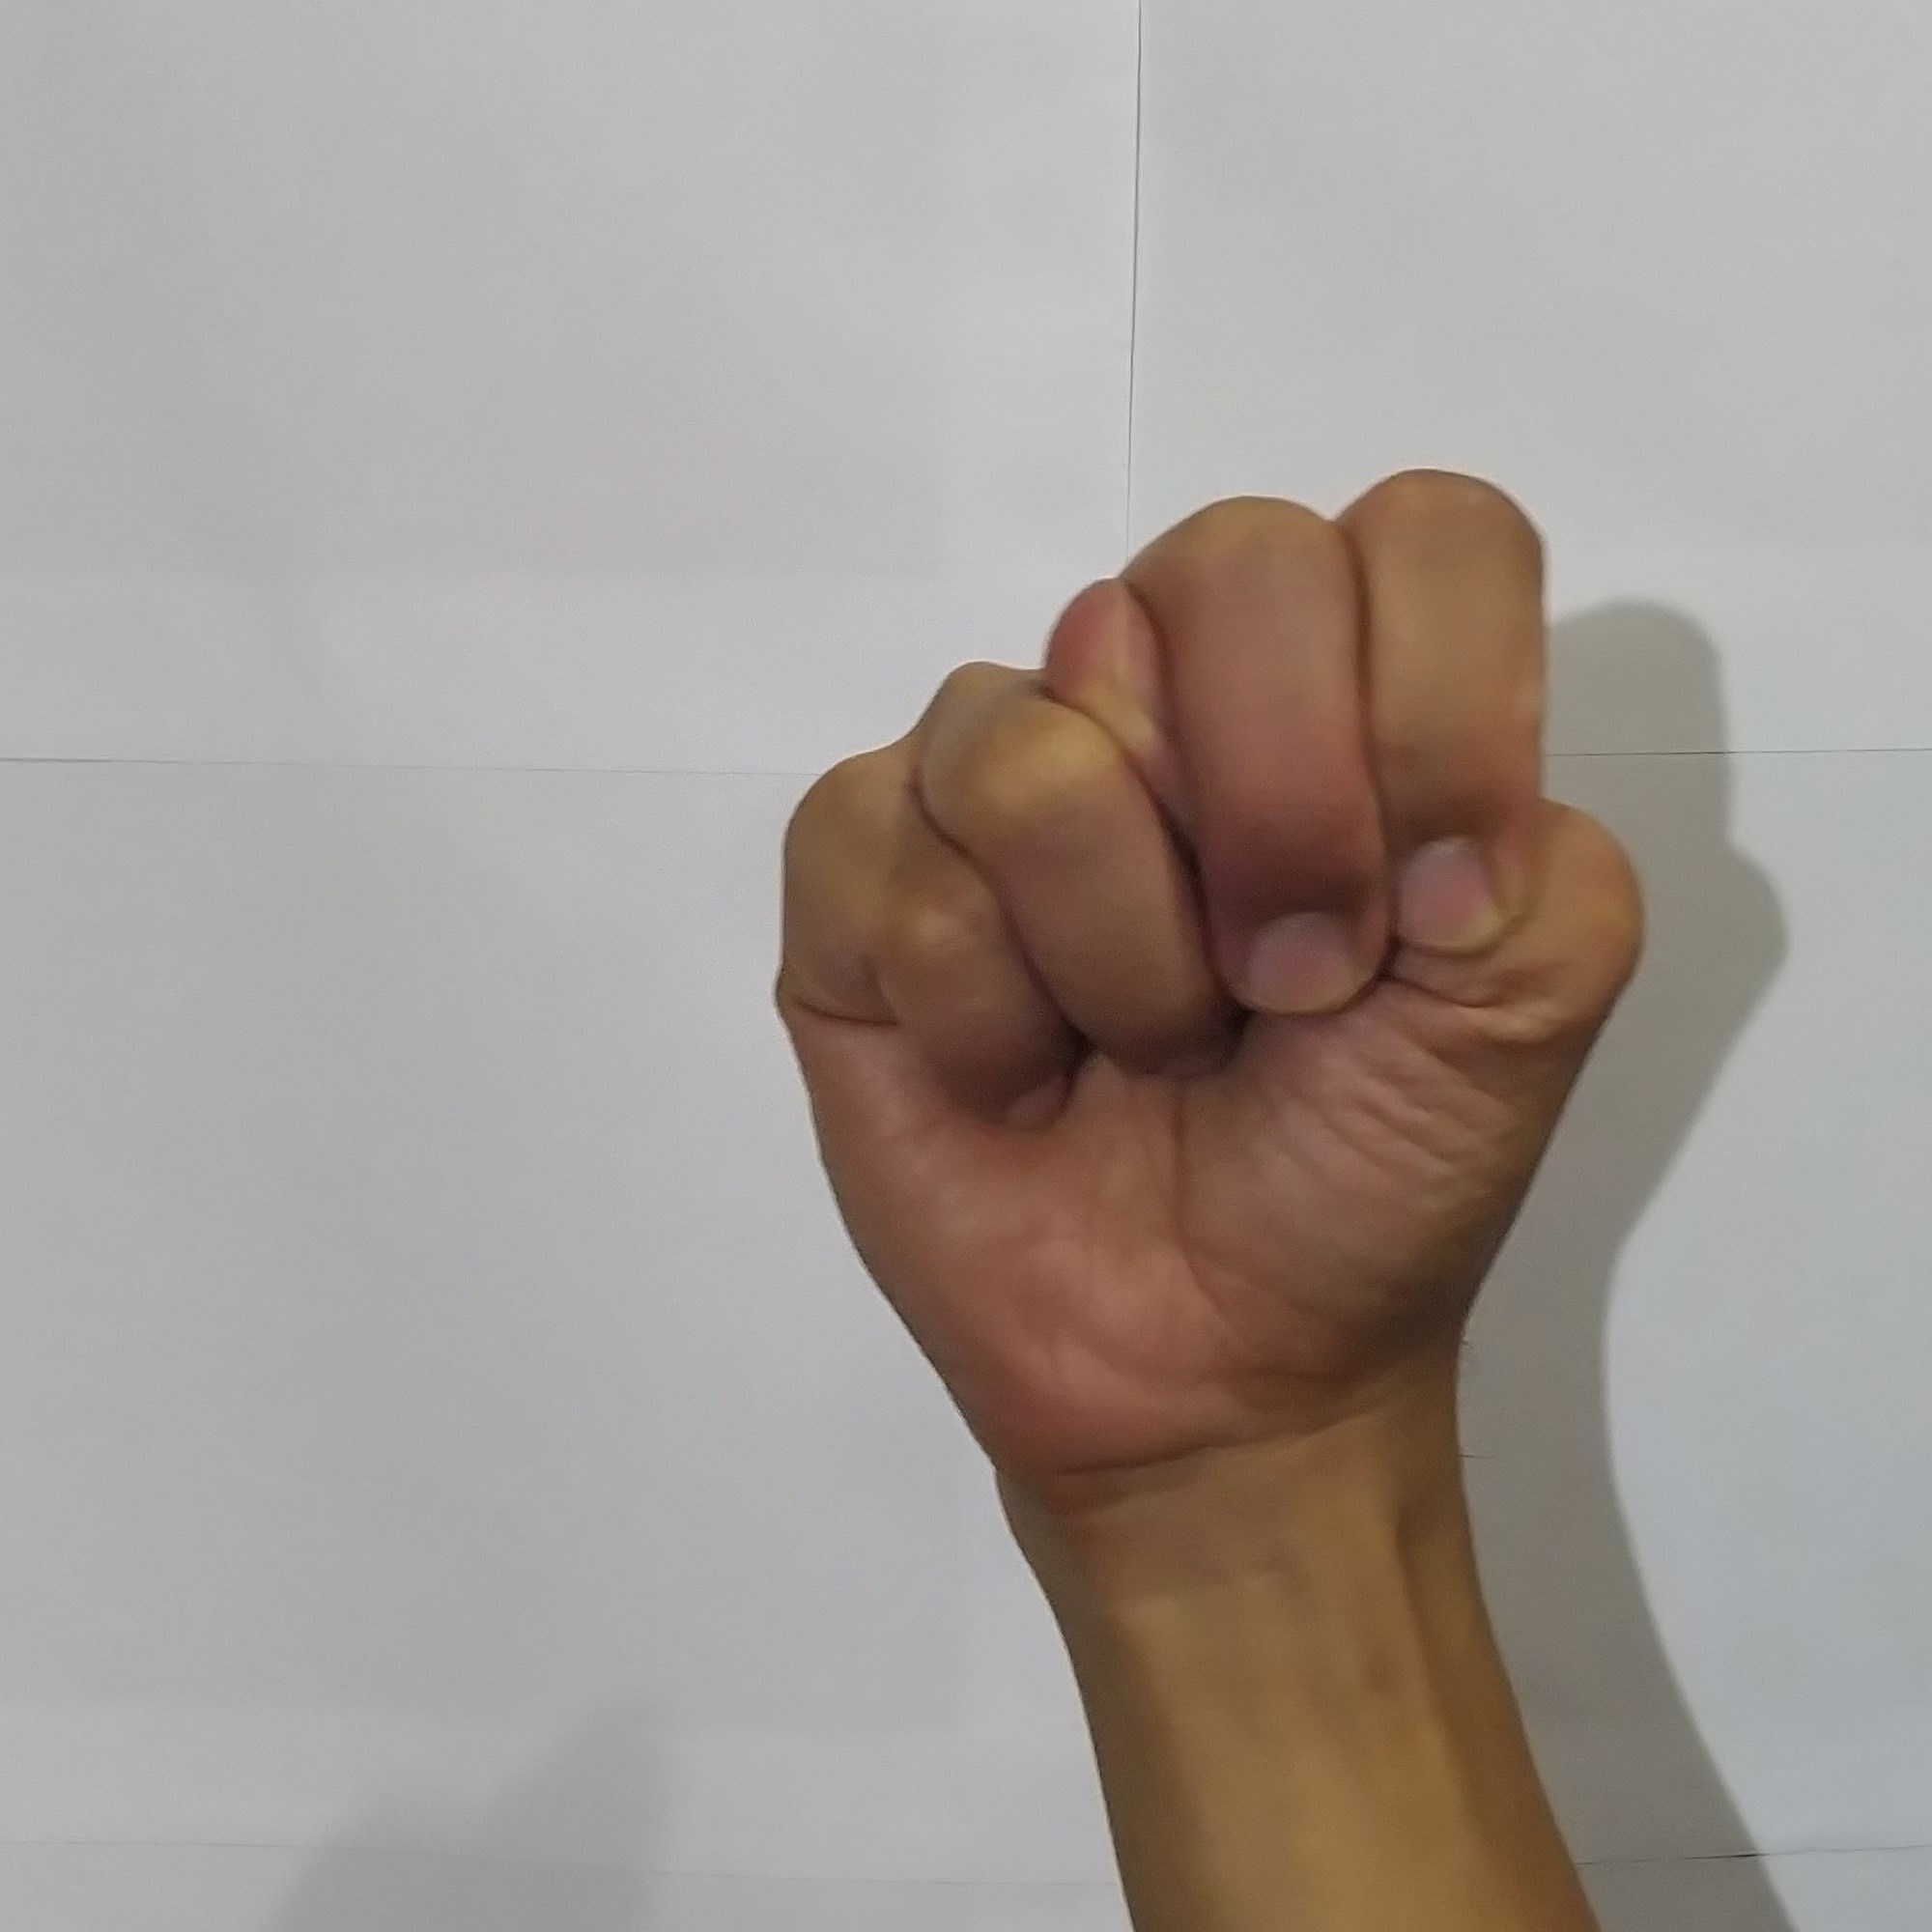N: (732, 442, 1674, 1451)
